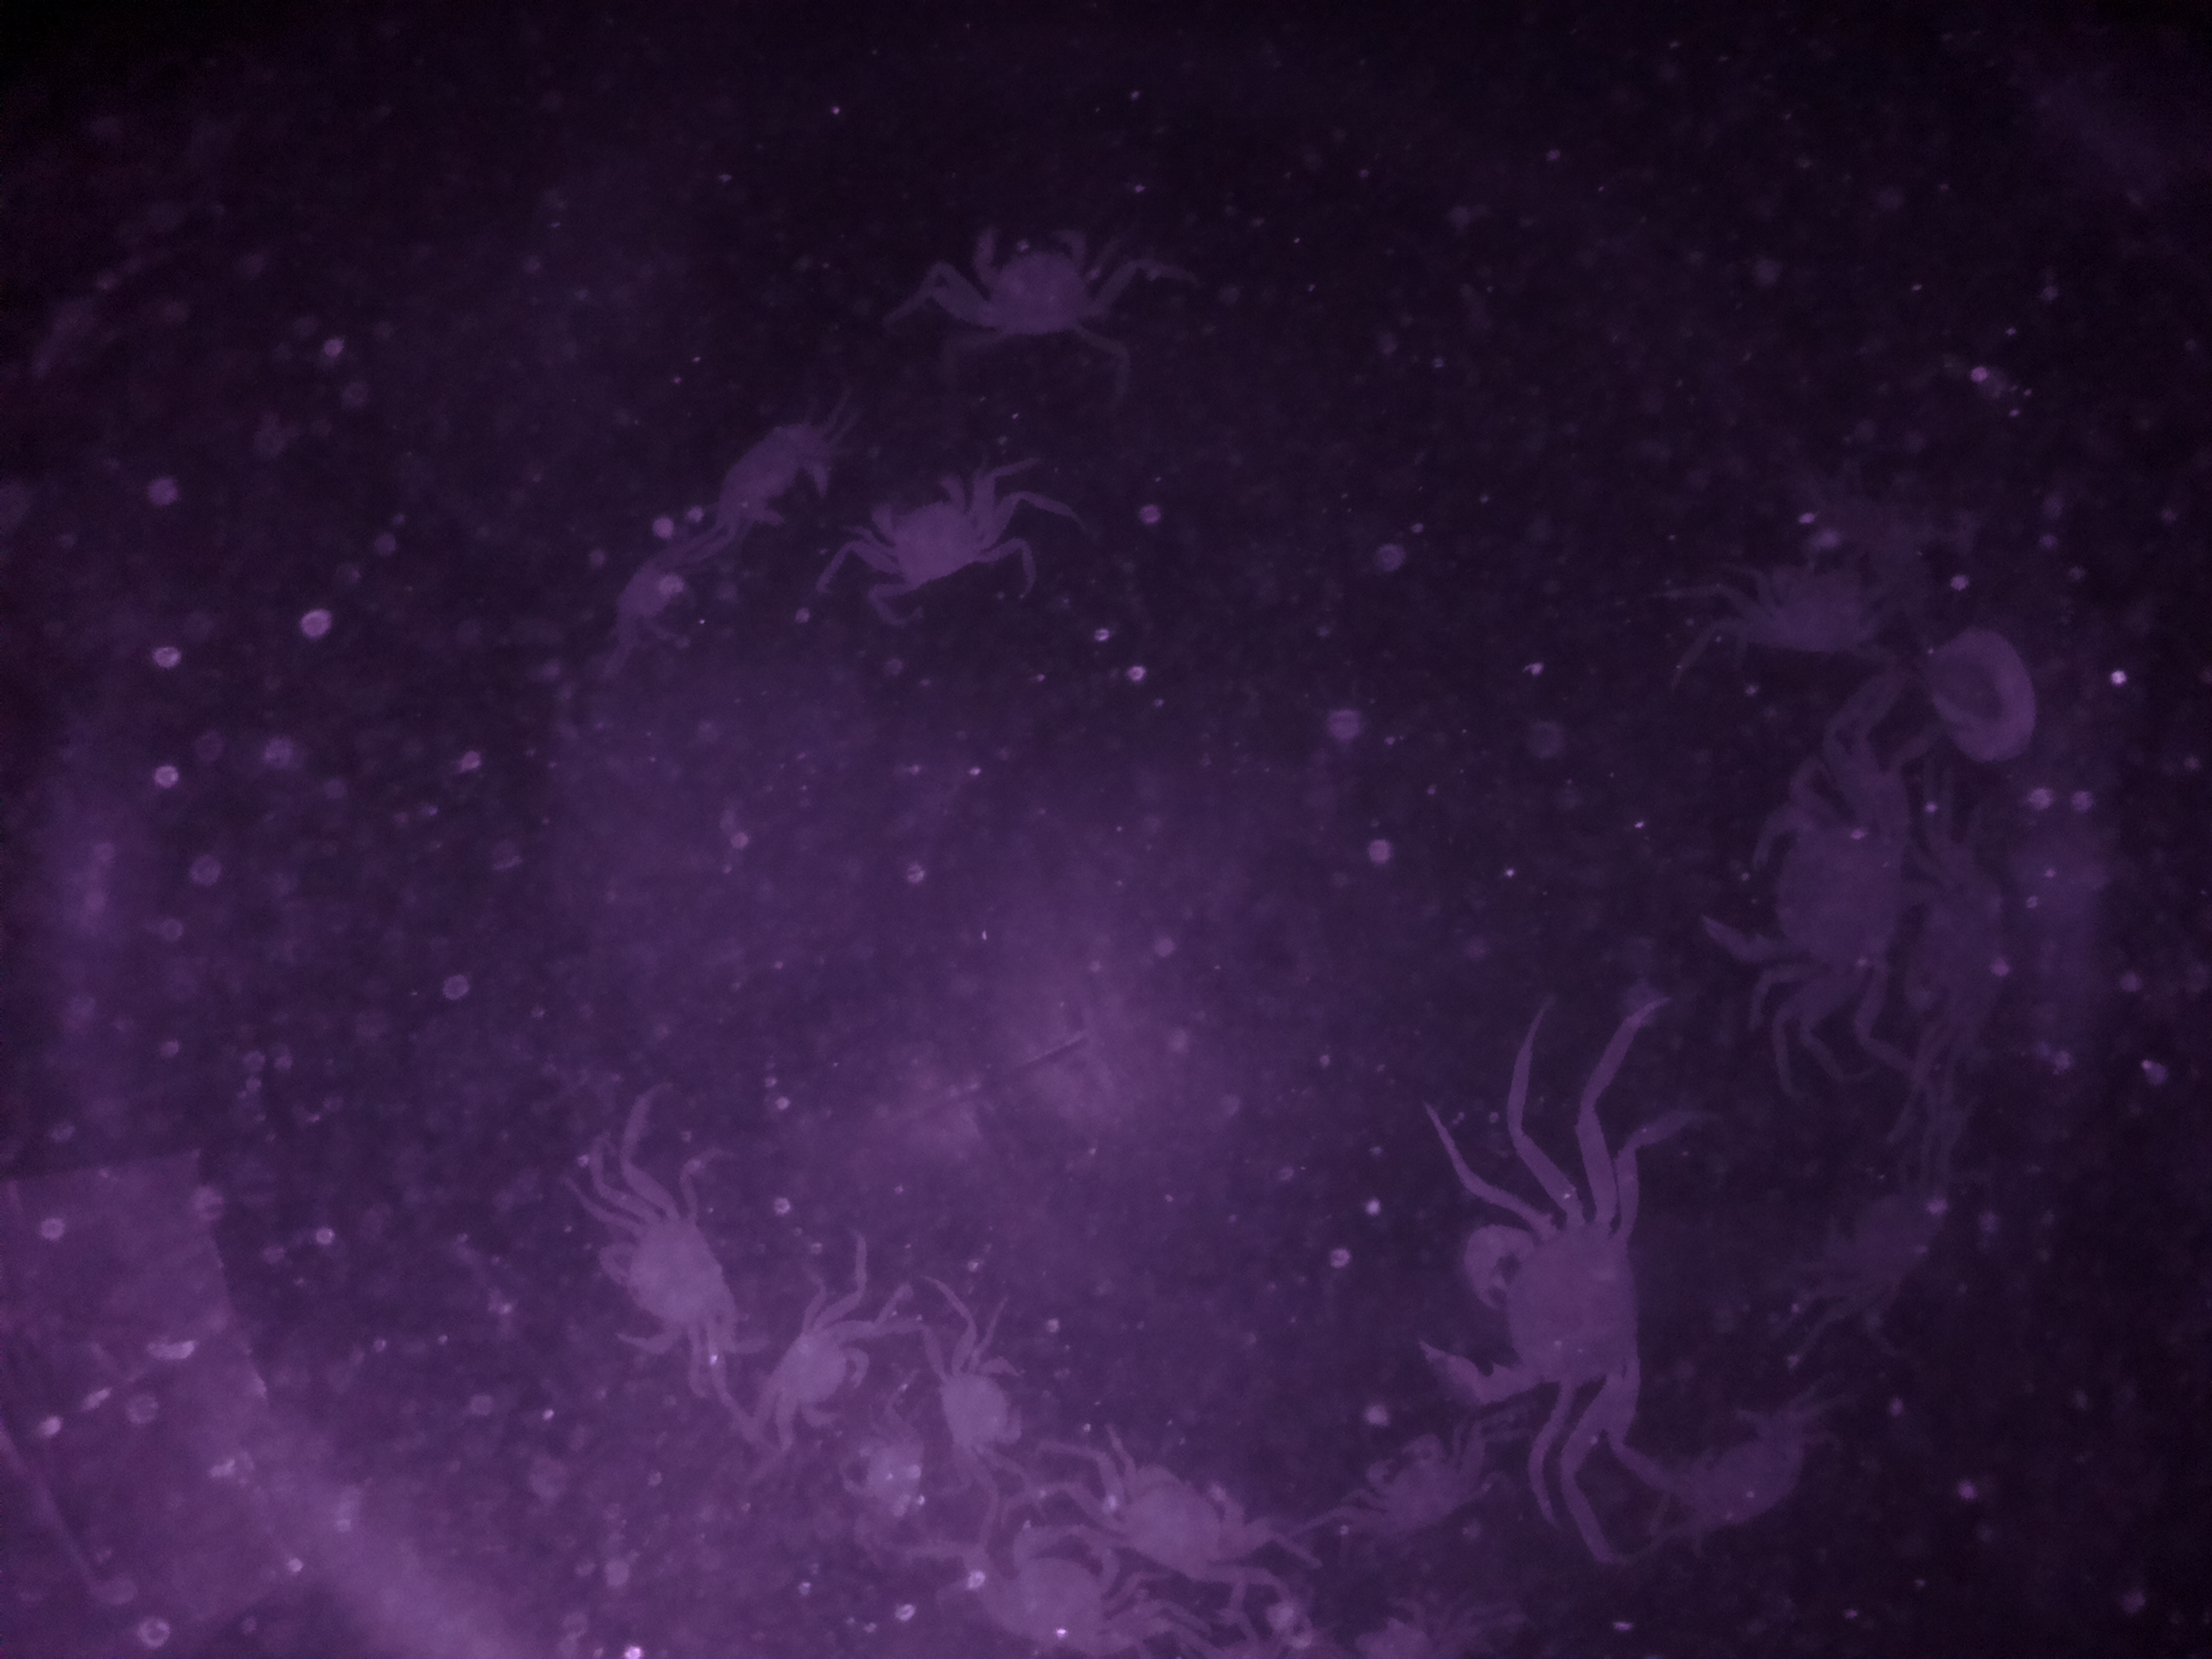Crab: (1423, 1185, 1662, 1441), (1674, 777, 1928, 1000), (1066, 1445, 1273, 1598), (573, 1192, 740, 1371), (948, 214, 1122, 366), (845, 469, 996, 606), (754, 1295, 880, 1445), (921, 1337, 1036, 1476)
